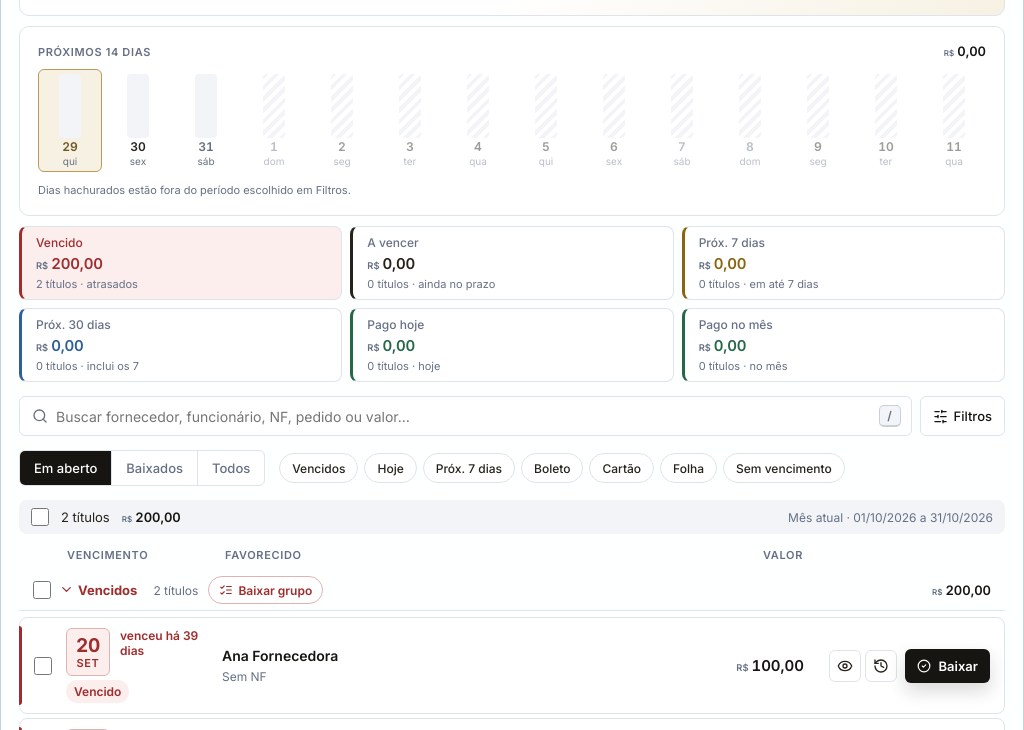
Test: Contas a Pagar — respostas fora de ordem › contas de uma empresa que deixou de ser a escolhida são ignoradas
The image size is (1024, 730).
(page scrolled)
Click the button with aria-label "Baixar Ana Fornecedora" at coordinates (947, 666), box x1=904 y1=649 x2=990 y2=683
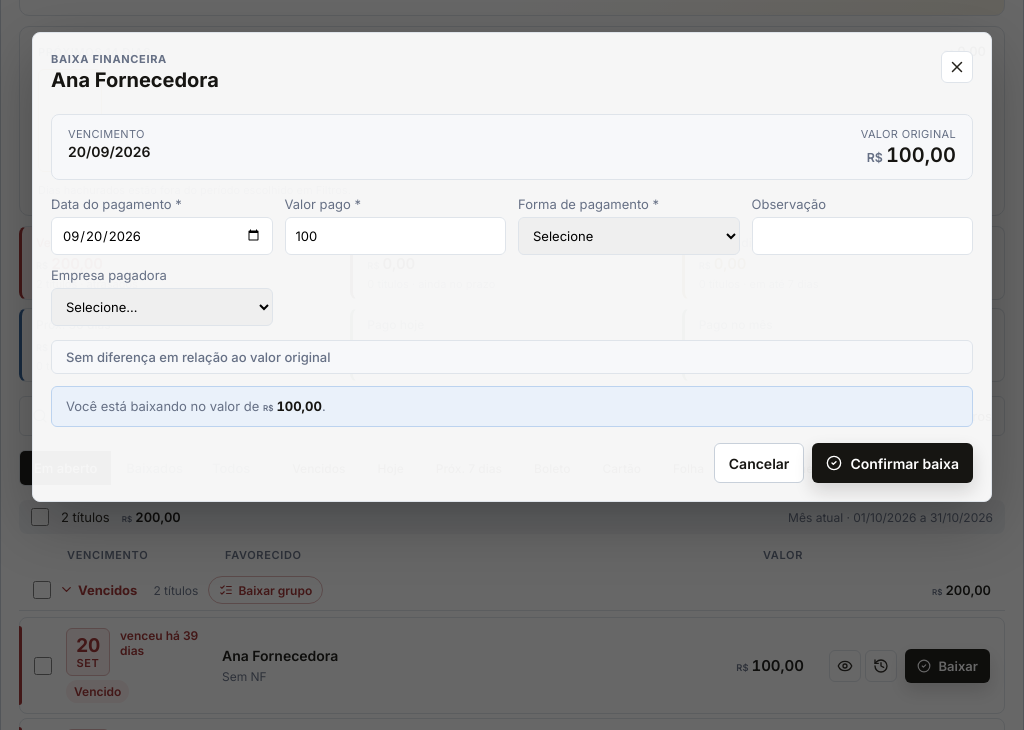
Select "Pateo Frei" in the dropdown labelled "Empresa pagadora" at coordinates (162, 306), box x1=51 y1=288 x2=272 y2=326
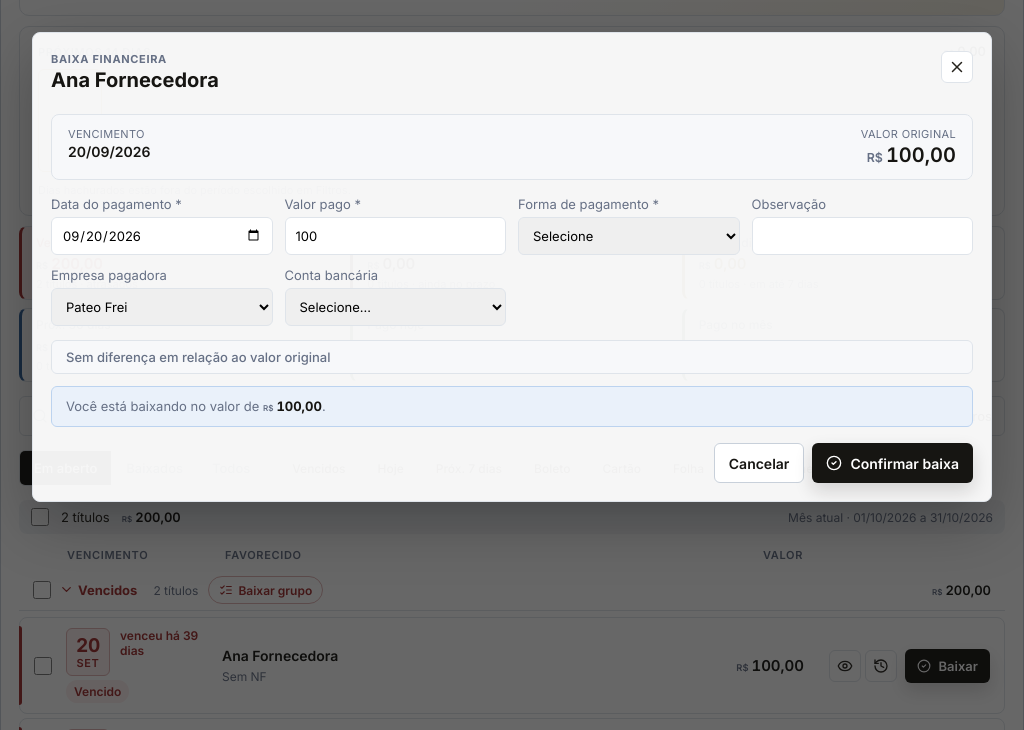
Select "Pateo Peposo" in the dropdown labelled "Empresa pagadora" at coordinates (162, 306), box x1=51 y1=288 x2=272 y2=326
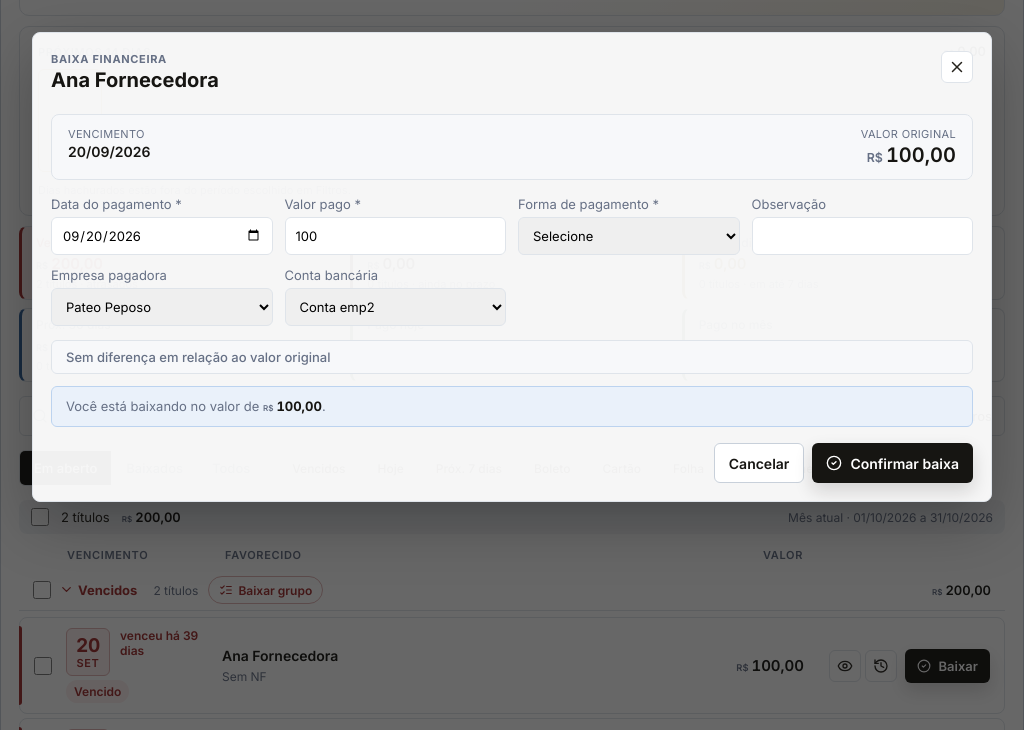
Check: the dropdown labelled "Conta bancária" shows "Conta emp2", box x1=284 y1=288 x2=506 y2=326
